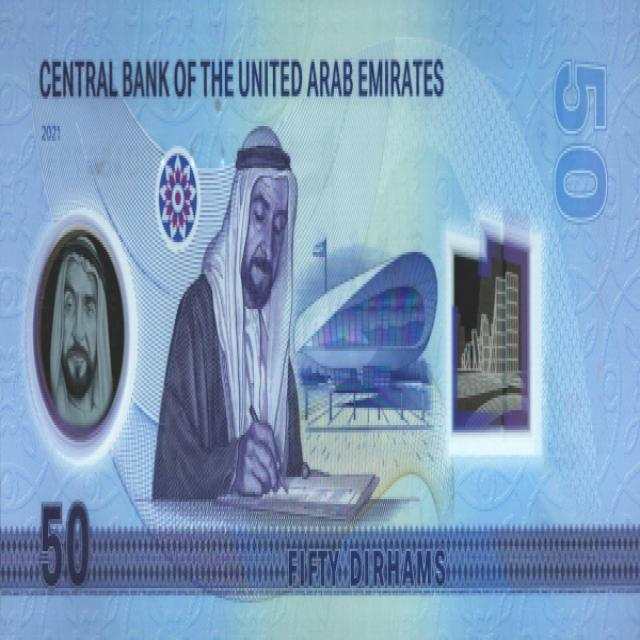50_AED: (2, 4, 640, 637)
